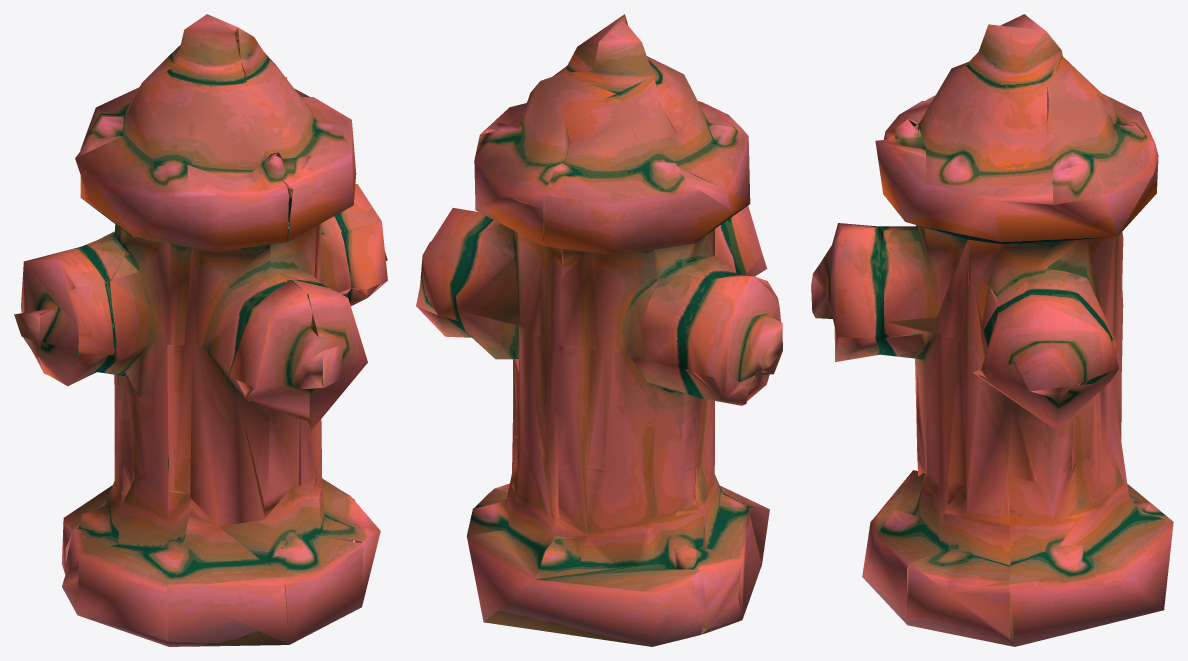
Rendered from M-10_08a_hydrant.glb.
3 renders of one model, left to right at view 1: azimuth 30°, elevation 25°; view 2: azimuth 150°, elevation 25°; view 3: azimuth 270°, elevation 25°, orthographic.
Parts seen in each view (by area): view 1: hydrant_bin; view 2: hydrant_bin; view 3: hydrant_bin.
Boxes of the visible parts, x1,y1,x2,y2 form: hydrant_bin: (14, 14, 387, 646); hydrant_bin: (416, 14, 782, 646); hydrant_bin: (811, 14, 1173, 646).
Size of the model in its own units: 0.9818 by 1.52 by 0.887.
Materials: 1 (1 with a texture image).
